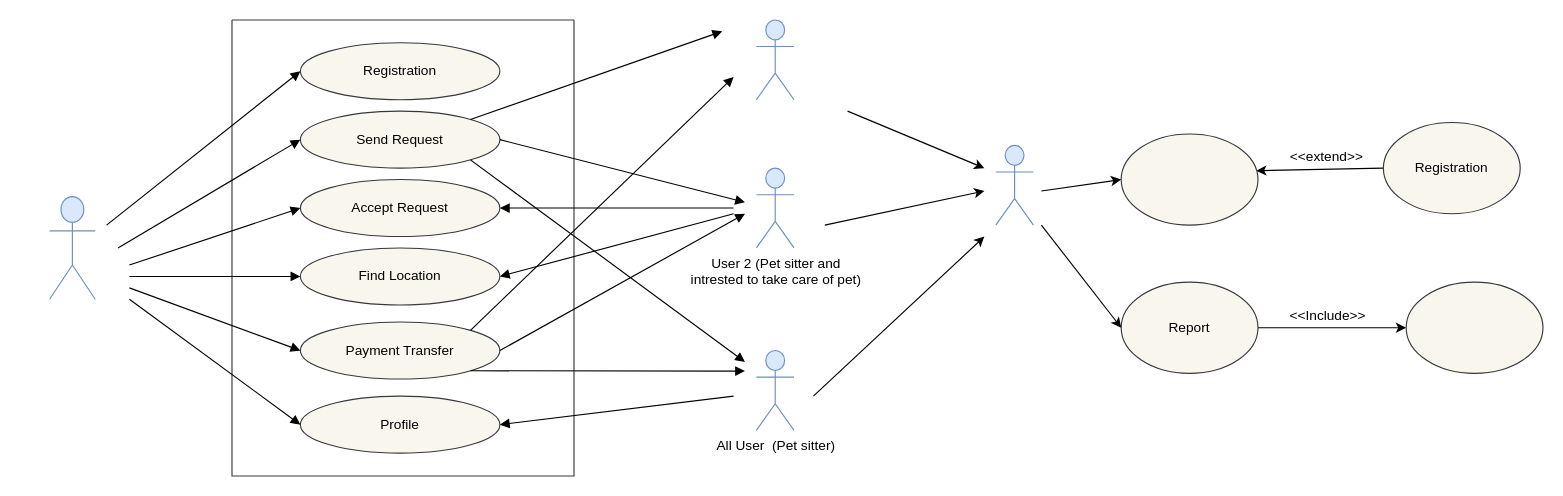
The diagram is 1563 pixels wide and 496 high, and some of its shapes have lost their labels. The centre of each missing label's shape, as x and y in pixels:
"Login" goes at [1189,179].
"Owner Of the Pet" goes at [71,247].
"Pet Report" goes at [1474,327].
"Pet sitter" goes at [1014,184].
"User 1 (Pet sitter)" goes at [774,59].
